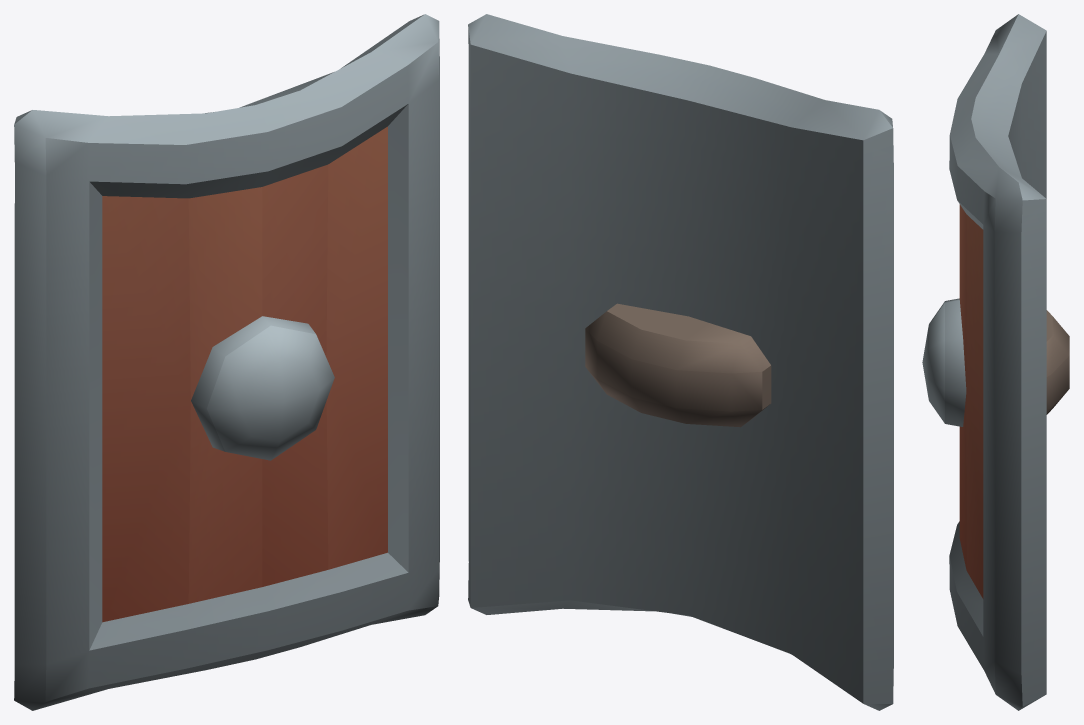
The model's file is shield_square.obj.
3 views of the same model, side by side, from view 1: azimuth 30°, elevation 25°; view 2: azimuth 150°, elevation 25°; view 3: azimuth 270°, elevation 25° (orthographic). The views are drawn at different scales.
Visible parts, largest first — view 1: shield_square; view 2: shield_square; view 3: shield_square.
Boxes of the visible parts, <box> form: shield_square: <box>14,14,439,710</box>; shield_square: <box>468,14,893,710</box>; shield_square: <box>922,14,1069,710</box>.
Size of the model in its own units: 0.8826 by 1.19 by 0.3011.
1 material, 1 textured.
